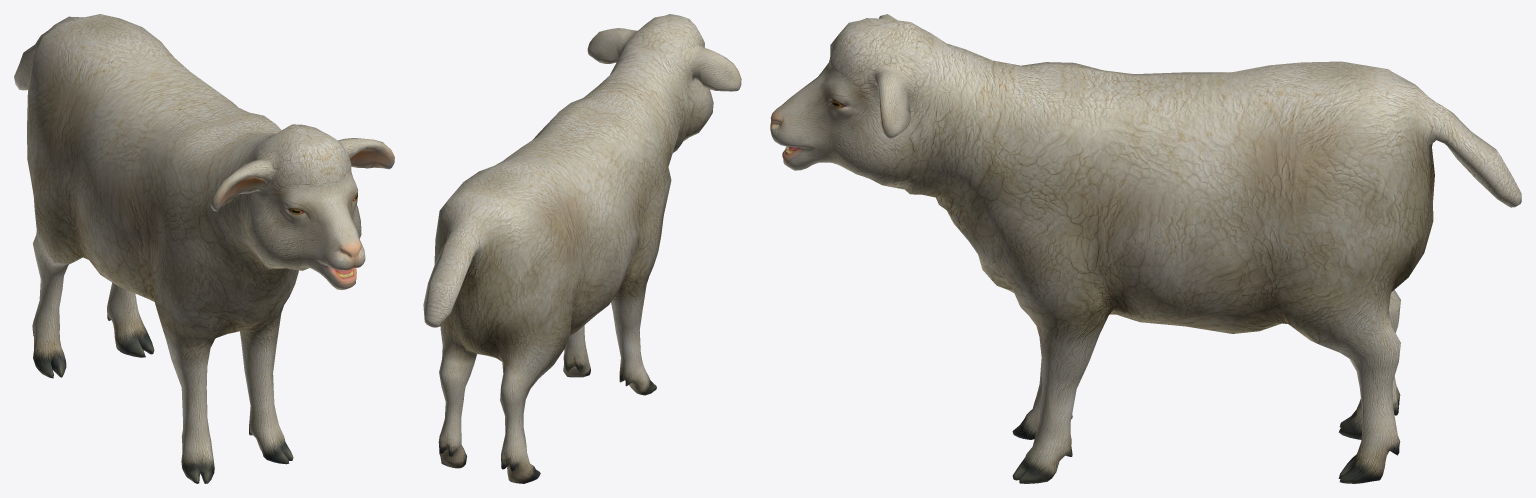
File: sheep.glb
The picture shows the model from 3 angles, left to right: view 1: azimuth 30°, elevation 25°; view 2: azimuth 150°, elevation 25°; view 3: azimuth 270°, elevation 25°; orthographic projection. The views are drawn at different scales.
Parts seen in each view (by area): view 1: SK_Sheep_LOD0_0; view 2: SK_Sheep_LOD0_0; view 3: SK_Sheep_LOD0_0.
Boxes of the visible parts, box(x1,y1,x2,y2) form: SK_Sheep_LOD0_0: box(14, 14, 394, 483); SK_Sheep_LOD0_0: box(423, 14, 741, 483); SK_Sheep_LOD0_0: box(770, 14, 1521, 483).
Bounding box in the file's own units: 0.0817 × 0.1644 × 0.2587.
Materials: 1 (1 with a texture image).
